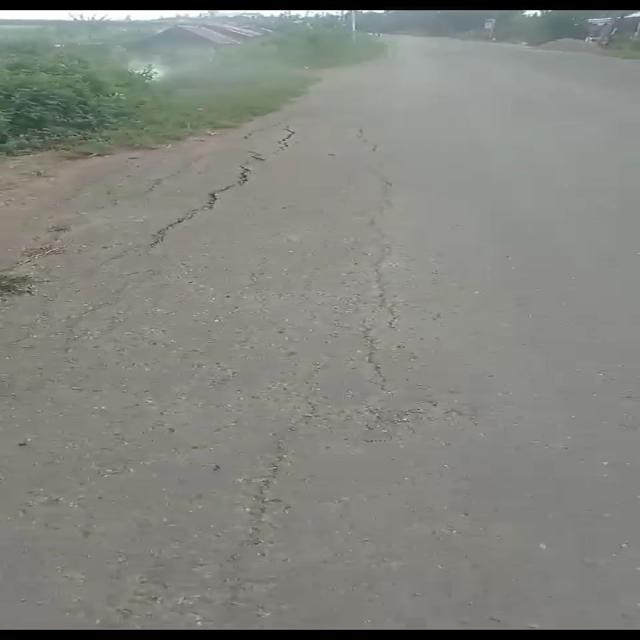Pinggir: (0, 67, 328, 300)
